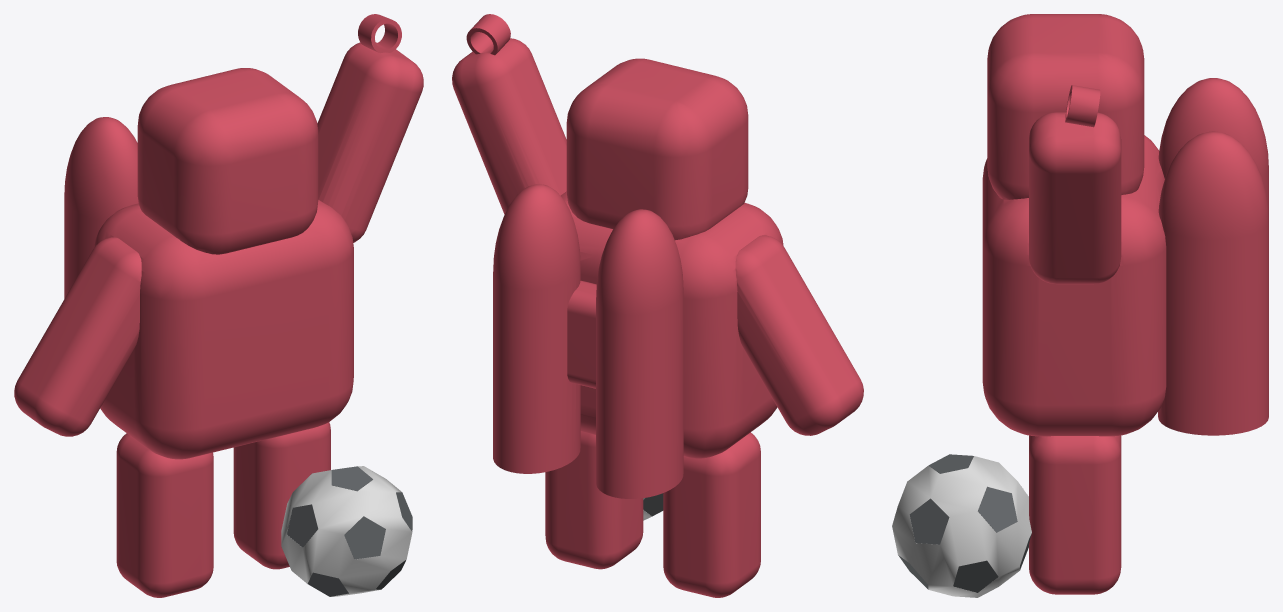
The picture shows the model from 3 angles, left to right: view 1: azimuth 30°, elevation 25°; view 2: azimuth 150°, elevation 25°; view 3: azimuth 270°, elevation 25°; orthographic projection. The views are drawn at different scales.
Visible parts, largest first — view 1: Mesh_Mesh_head_geo.001_lambert2SG.001_0; view 2: Mesh_Mesh_head_geo.001_lambert2SG.001_0; view 3: Mesh_Mesh_head_geo.001_lambert2SG.001_0.
Part boxes in pixels (box(x1,y1,x2,y2)): Mesh_Mesh_head_geo.001_lambert2SG.001_0: box(14, 14, 423, 597); Mesh_Mesh_head_geo.001_lambert2SG.001_0: box(452, 14, 863, 597); Mesh_Mesh_head_geo.001_lambert2SG.001_0: box(892, 14, 1268, 597).
Size of the model in its own units: 50 by 63.66 by 39.5.
